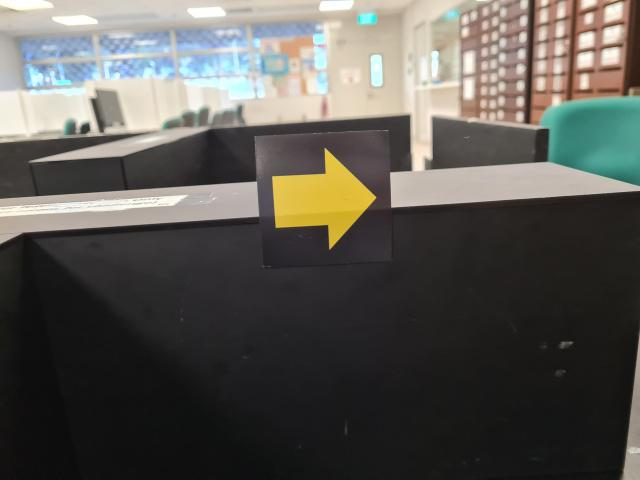right: (255, 129, 390, 267)
